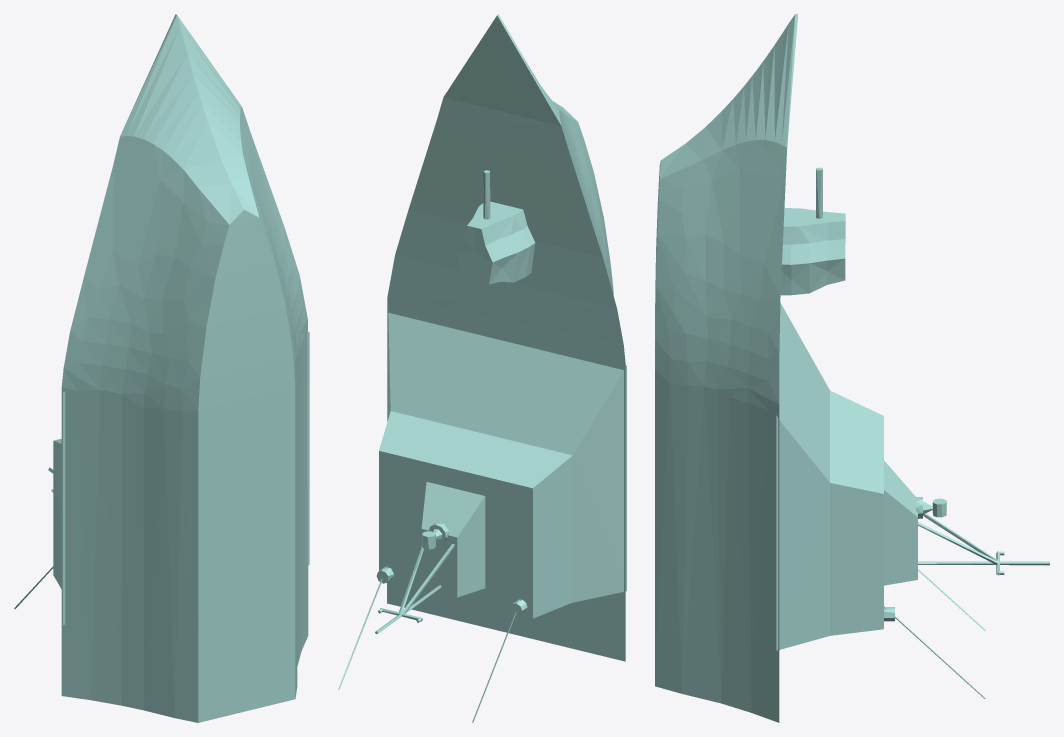
Rendered from senntai.fbx.
The picture shows the model from 3 angles, left to right: view 1: azimuth 30°, elevation 25°; view 2: azimuth 150°, elevation 25°; view 3: azimuth 270°, elevation 25°; orthographic projection. The views are drawn at different scales.
Visible parts, largest first — view 1: 立方体; view 2: 立方体; view 3: 立方体.
Part boxes in pixels (x1,y1,x2,y2): 立方体: [14, 14, 309, 722]; 立方体: [338, 14, 626, 722]; 立方体: [655, 14, 1049, 722].
Size of the model in its own units: 800 by 2005 by 1103.
